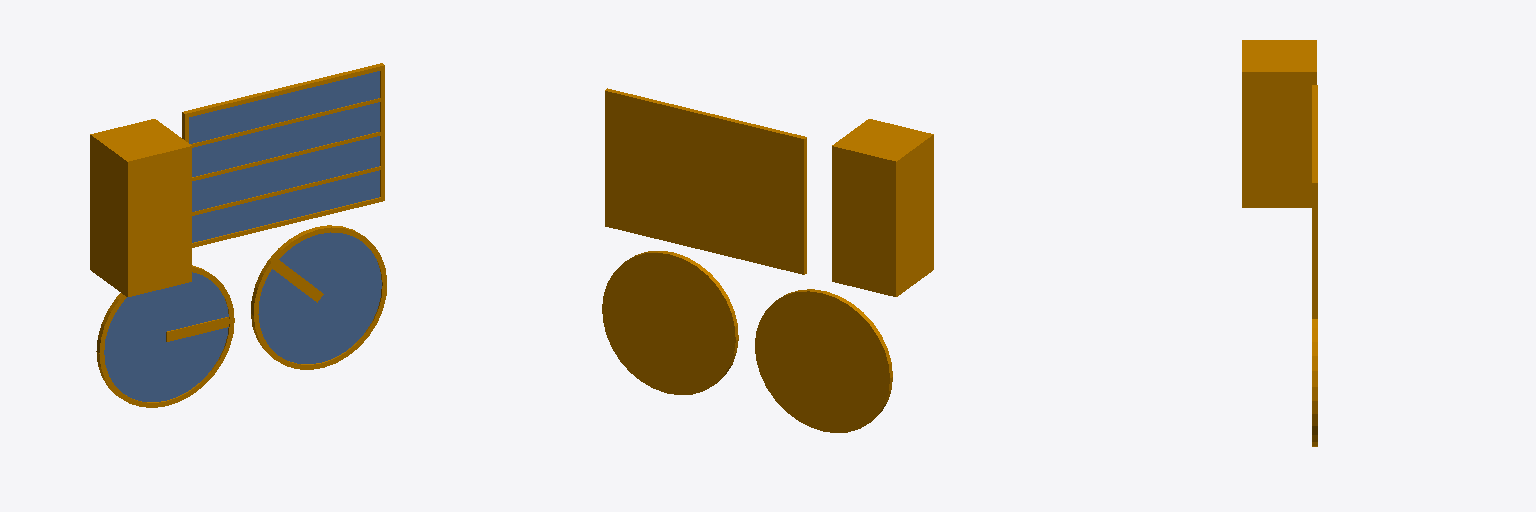
File: etapNaranja.obj
3 renders of one model, left to right at view 1: azimuth 30°, elevation 25°; view 2: azimuth 150°, elevation 25°; view 3: azimuth 270°, elevation 25°, orthographic.
Visible parts, largest first — view 1: Cube.002, Cube, Cylinder.002, Cylinder.001, Cube.001, Cylinder.003, Cylinder, Cube.004, Cube.003, Cube.005, Cube.006, Cube.007; view 2: Cube.001, Cube, Cylinder, Cylinder.003; view 3: Cube, Cube.001, Cylinder.003.
Part boxes in pixels (bbox=[...]): Cube.002: bbox=[189, 71, 379, 242]; Cube: bbox=[90, 119, 191, 296]; Cylinder.002: bbox=[258, 232, 381, 363]; Cylinder.001: bbox=[104, 272, 228, 401]; Cube.001: bbox=[182, 63, 384, 247]; Cylinder.003: bbox=[251, 225, 386, 369]; Cylinder: bbox=[96, 265, 234, 407]; Cube.004: bbox=[192, 132, 380, 180]; Cube.003: bbox=[190, 98, 380, 147]; Cube.005: bbox=[192, 166, 380, 215]; Cube.006: bbox=[166, 317, 229, 341]; Cube.007: bbox=[273, 260, 323, 302]; Cube.001: bbox=[605, 88, 806, 274]; Cube: bbox=[832, 119, 933, 296]; Cylinder: bbox=[755, 289, 892, 432]; Cylinder.003: bbox=[602, 251, 738, 394]; Cube: bbox=[1242, 40, 1316, 207]; Cube.001: bbox=[1312, 85, 1317, 318]; Cylinder.003: bbox=[1312, 319, 1317, 446].
Bounding box in the file's own units: 9.08 × 8.48 × 2.01.